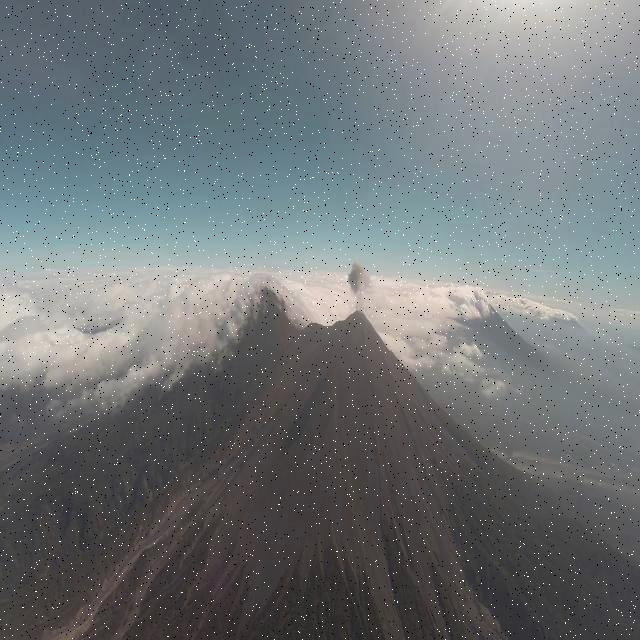Plume: (349, 260, 371, 302)
Summit: (331, 308, 382, 342)
